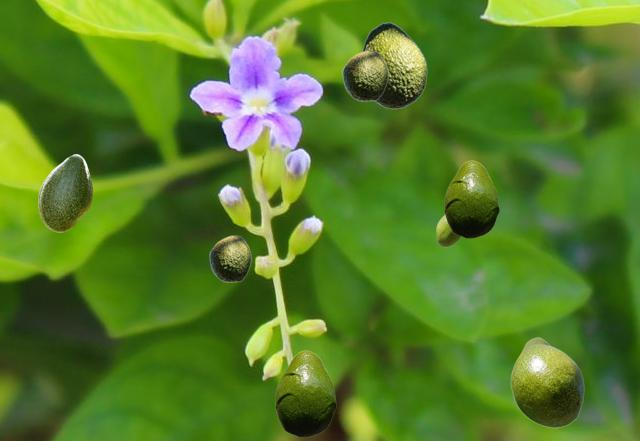avocado: (510, 337, 583, 427), (362, 22, 426, 108), (275, 350, 335, 436), (444, 160, 498, 237), (38, 154, 91, 231), (342, 50, 387, 100), (209, 235, 250, 281), (436, 215, 460, 246)
